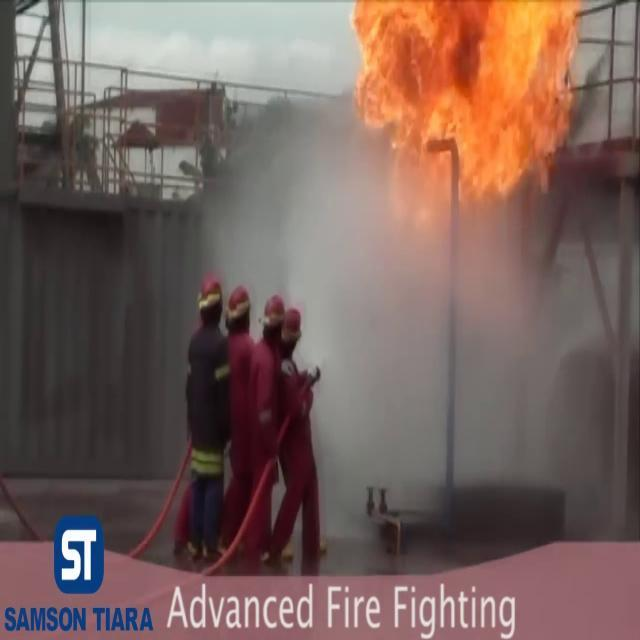Fire: (343, 0, 592, 216)
